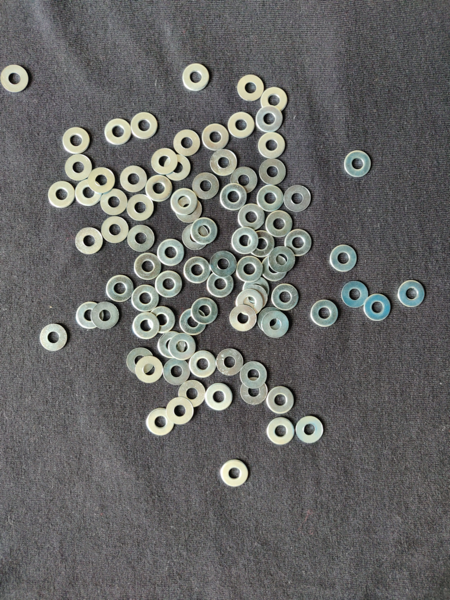circle: (146, 408, 175, 437), (158, 331, 186, 361), (220, 460, 249, 488), (266, 418, 295, 446), (182, 64, 211, 92), (135, 356, 163, 385), (75, 227, 104, 255), (120, 165, 148, 194), (204, 383, 233, 411), (240, 378, 269, 406), (192, 172, 220, 201), (101, 216, 130, 244), (127, 225, 156, 253), (133, 253, 162, 281), (284, 229, 313, 257), (183, 256, 212, 284), (163, 357, 191, 386), (230, 304, 258, 333), (234, 290, 265, 316), (344, 150, 372, 178), (330, 244, 358, 272), (398, 280, 426, 308), (311, 300, 339, 328), (296, 416, 324, 444), (40, 324, 68, 352), (182, 223, 210, 251), (127, 194, 155, 222), (106, 275, 134, 303), (272, 283, 300, 311), (262, 311, 290, 339), (168, 333, 196, 361), (364, 294, 391, 323), (266, 387, 295, 414), (257, 307, 286, 334), (188, 351, 217, 378), (77, 302, 105, 329), (91, 303, 119, 330), (1, 65, 28, 93), (63, 127, 90, 155), (130, 113, 158, 140), (227, 112, 255, 139), (259, 158, 287, 185), (284, 185, 312, 212), (145, 176, 173, 203), (230, 166, 257, 194), (220, 184, 248, 211), (266, 211, 294, 238), (248, 230, 275, 258), (171, 188, 198, 216), (132, 286, 160, 313), (132, 313, 160, 340), (148, 306, 175, 334), (236, 256, 264, 283), (241, 285, 269, 312), (258, 133, 287, 159), (240, 361, 266, 390), (342, 281, 369, 308), (65, 155, 92, 182), (104, 119, 131, 146), (238, 75, 265, 102), (167, 398, 194, 425), (126, 348, 153, 375), (256, 107, 283, 134), (202, 124, 229, 151), (74, 180, 101, 207), (100, 189, 127, 216), (258, 185, 285, 212), (231, 228, 258, 255), (261, 255, 288, 282), (47, 182, 75, 208), (179, 380, 205, 408), (210, 251, 238, 277), (261, 87, 288, 113), (210, 150, 237, 176), (88, 168, 115, 194), (151, 149, 178, 175), (238, 204, 265, 230), (191, 218, 217, 245), (176, 197, 202, 224), (158, 240, 185, 266), (155, 272, 182, 298), (207, 272, 234, 298), (180, 310, 207, 336), (217, 350, 243, 377), (174, 130, 200, 156), (165, 155, 191, 181), (243, 277, 269, 303), (268, 248, 295, 273), (192, 299, 218, 324)
